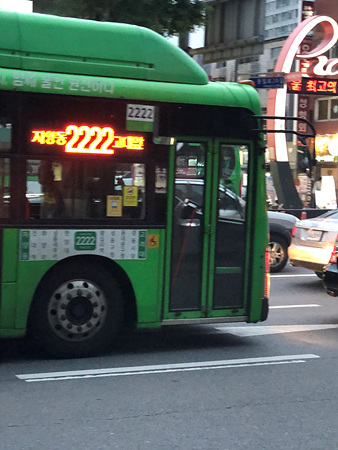entrance: (168, 131, 254, 326)
